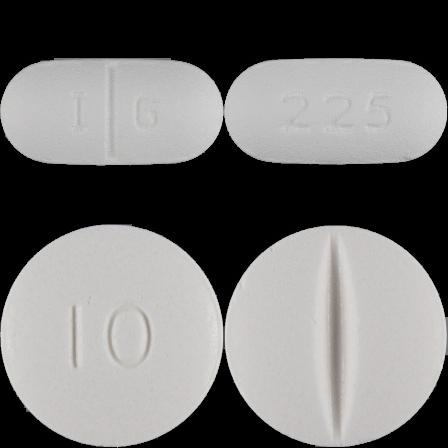53808-0673: (0, 0, 224, 224)
